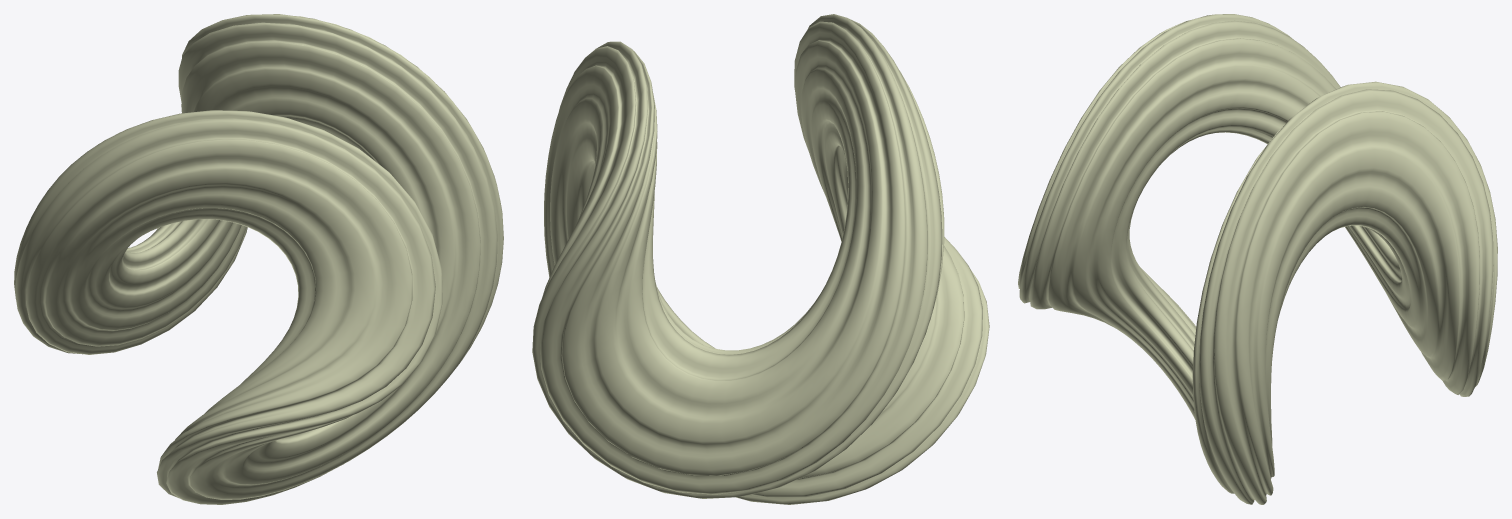
3 views of the same model, side by side, from view 1: azimuth 30°, elevation 25°; view 2: azimuth 150°, elevation 25°; view 3: azimuth 270°, elevation 25° (orthographic). The views are drawn at different scales.
Visible parts, largest first — view 1: Torus.009; view 2: Torus.009; view 3: Torus.009.
Boxes of the visible parts, bbox=[...] form: Torus.009: bbox=[14, 14, 503, 504]; Torus.009: bbox=[532, 14, 989, 504]; Torus.009: bbox=[1018, 14, 1497, 504].
Bounding box in the file's own units: 2.71 × 2.66 × 2.71.
